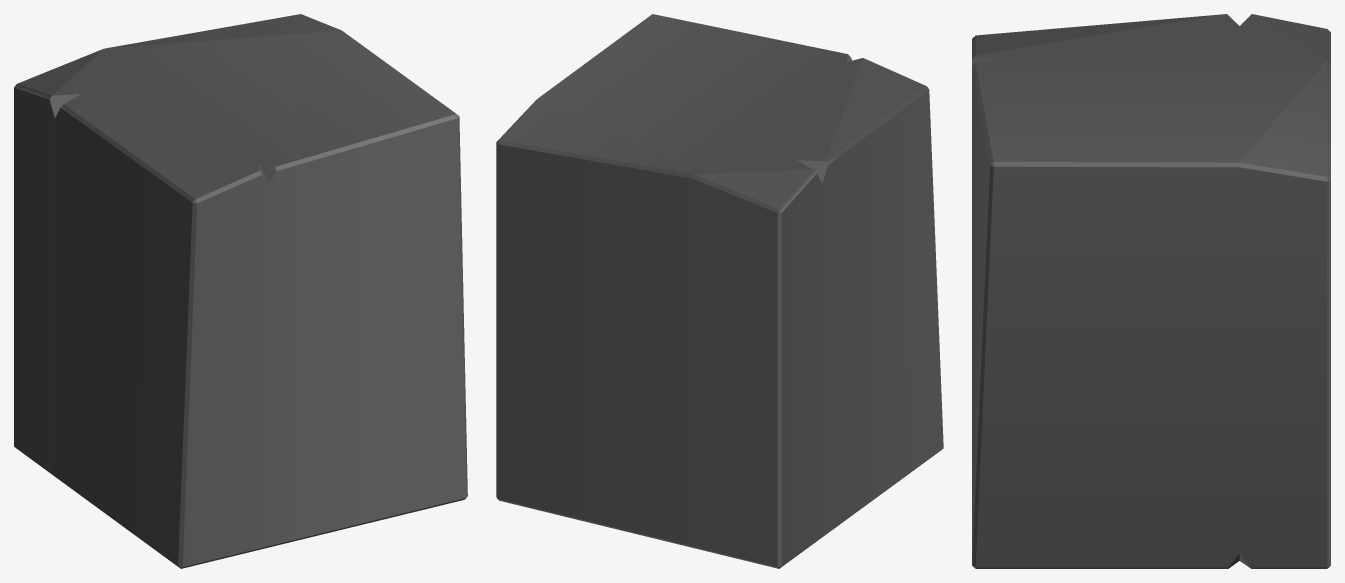
Rendered from stone.glb.
The picture shows the model from 3 angles, left to right: view 1: azimuth 30°, elevation 25°; view 2: azimuth 150°, elevation 25°; view 3: azimuth 270°, elevation 25°; orthographic projection. The views are drawn at different scales.
Parts seen in each view (by area): view 1: Cube; view 2: Cube; view 3: Cube.
Boxes of the visible parts, x1=… form: Cube: x1=14, y1=14, x2=467, y2=568; Cube: x1=496, y1=14, x2=943, y2=568; Cube: x1=972, y1=14, x2=1330, y2=568.
Bounding box in the file's own units: 4 × 5.01 × 4.
Materials: 1 (1 with a texture image).
